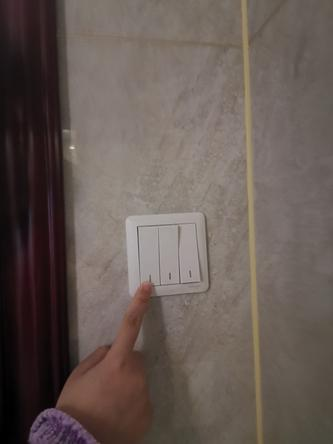switch: (133, 221, 164, 289), (175, 221, 205, 287), (155, 220, 183, 288)
